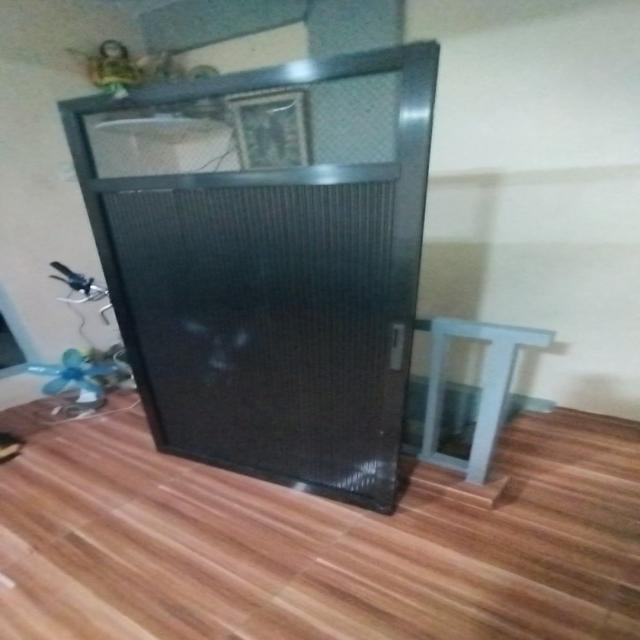door: (54, 34, 434, 517)
